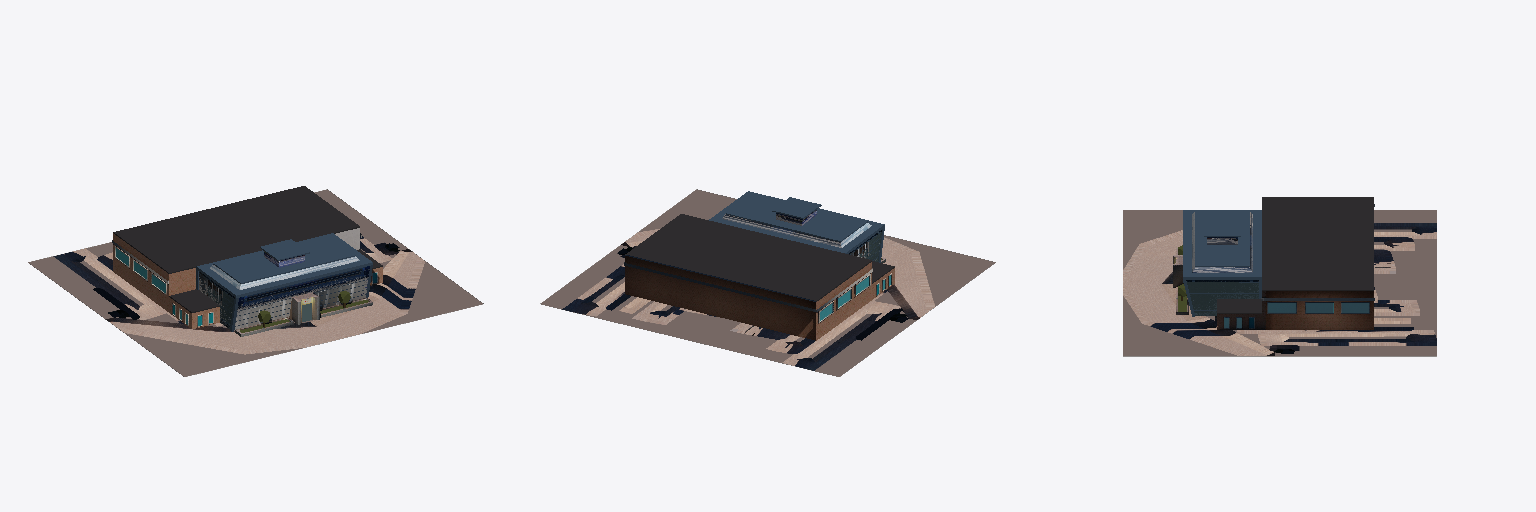
The picture shows the model from 3 angles: view 1: azimuth 30°, elevation 25°; view 2: azimuth 150°, elevation 25°; view 3: azimuth 270°, elevation 25°; orthographic projection.
Parts seen in each view (by area): view 1: Mesh121 G_3DGeom_18 Assembly_5 SimLab_skp Assembly_2 Model, Mesh99 G_3DGeom_11 Assembly_5 SimLab_skp Assembly_2 Model, Mesh30 G_3DGeom_3 Assembly_5 SimLab_skp Assembly_2 Model, Mesh29 G_3DGeom_3 Assembly_5 SimLab_skp Assembly_2 Model, Mesh26 G_3DGeom_2 Assembly_5 SimLab_skp Assembly_2 Model, Mesh39 G_3DGeom_4 Assembly_5 SimLab_skp Assembly_2 Model, Mesh100 G_3DGeom_11 Assembly_5 SimLab_skp Assembly_2 Model, Mesh101 G_3DGeom_11 Assembly_5 SimLab_skp Assembly_2 Model, Mesh31 G_3DGeom_3 Assembly_5 SimLab_skp Assembly_2 Model, Mesh25 G_3DGeom_2 Assembly_5 SimLab_skp Assembly_2 Model, Mesh113 G_3DGeom_15 Assembly_5 SimLab_skp Assembly_2 Model, Mesh48 G_3DGeom_4 Assembly_5 SimLab_skp Assembly_2 Model (+1 smaller); view 2: Mesh121 G_3DGeom_18 Assembly_5 SimLab_skp Assembly_2 Model, Mesh99 G_3DGeom_11 Assembly_5 SimLab_skp Assembly_2 Model, Mesh28 G_3DGeom_2 Assembly_5 SimLab_skp Assembly_2 Model, Mesh30 G_3DGeom_3 Assembly_5 SimLab_skp Assembly_2 Model, Mesh26 G_3DGeom_2 Assembly_5 SimLab_skp Assembly_2 Model, Mesh29 G_3DGeom_3 Assembly_5 SimLab_skp Assembly_2 Model, Mesh39 G_3DGeom_4 Assembly_5 SimLab_skp Assembly_2 Model, Mesh100 G_3DGeom_11 Assembly_5 SimLab_skp Assembly_2 Model, Mesh72 G_3DGeom_6 Assembly_5 SimLab_skp Assembly_2 Model, Mesh31 G_3DGeom_3 Assembly_5 SimLab_skp Assembly_2 Model; view 3: Mesh121 G_3DGeom_18 Assembly_5 SimLab_skp Assembly_2 Model, Mesh99 G_3DGeom_11 Assembly_5 SimLab_skp Assembly_2 Model, Mesh27 G_3DGeom_2 Assembly_5 SimLab_skp Assembly_2 Model, Mesh30 G_3DGeom_3 Assembly_5 SimLab_skp Assembly_2 Model, Mesh29 G_3DGeom_3 Assembly_5 SimLab_skp Assembly_2 Model, Mesh100 G_3DGeom_11 Assembly_5 SimLab_skp Assembly_2 Model, Mesh39 G_3DGeom_4 Assembly_5 SimLab_skp Assembly_2 Model, Mesh98 G_3DGeom_11 Assembly_5 SimLab_skp Assembly_2 Model, Mesh31 G_3DGeom_3 Assembly_5 SimLab_skp Assembly_2 Model.
Boxes of the visible parts, box(x1,y1,x2,y2) form: Mesh121 G_3DGeom_18 Assembly_5 SimLab_skp Assembly_2 Model: box(28, 190, 482, 376); Mesh99 G_3DGeom_11 Assembly_5 SimLab_skp Assembly_2 Model: box(114, 186, 359, 265); Mesh30 G_3DGeom_3 Assembly_5 SimLab_skp Assembly_2 Model: box(214, 235, 355, 283); Mesh29 G_3DGeom_3 Assembly_5 SimLab_skp Assembly_2 Model: box(196, 233, 372, 331); Mesh26 G_3DGeom_2 Assembly_5 SimLab_skp Assembly_2 Model: box(113, 233, 219, 328); Mesh39 G_3DGeom_4 Assembly_5 SimLab_skp Assembly_2 Model: box(210, 256, 359, 289); Mesh100 G_3DGeom_11 Assembly_5 SimLab_skp Assembly_2 Model: box(113, 232, 195, 273); Mesh101 G_3DGeom_11 Assembly_5 SimLab_skp Assembly_2 Model: box(169, 289, 219, 312); Mesh31 G_3DGeom_3 Assembly_5 SimLab_skp Assembly_2 Model: box(260, 239, 309, 260); Mesh25 G_3DGeom_2 Assembly_5 SimLab_skp Assembly_2 Model: box(168, 268, 195, 295); Mesh113 G_3DGeom_15 Assembly_5 SimLab_skp Assembly_2 Model: box(289, 292, 319, 324); Mesh48 G_3DGeom_4 Assembly_5 SimLab_skp Assembly_2 Model: box(238, 270, 369, 305); Mesh121 G_3DGeom_18 Assembly_5 SimLab_skp Assembly_2 Model: box(541, 190, 995, 376); Mesh99 G_3DGeom_11 Assembly_5 SimLab_skp Assembly_2 Model: box(625, 214, 844, 300); Mesh28 G_3DGeom_2 Assembly_5 SimLab_skp Assembly_2 Model: box(625, 256, 815, 340); Mesh30 G_3DGeom_3 Assembly_5 SimLab_skp Assembly_2 Model: box(726, 193, 867, 241); Mesh26 G_3DGeom_2 Assembly_5 SimLab_skp Assembly_2 Model: box(816, 263, 894, 340); Mesh29 G_3DGeom_3 Assembly_5 SimLab_skp Assembly_2 Model: box(709, 191, 884, 262); Mesh39 G_3DGeom_4 Assembly_5 SimLab_skp Assembly_2 Model: box(722, 214, 871, 247); Mesh100 G_3DGeom_11 Assembly_5 SimLab_skp Assembly_2 Model: box(816, 254, 871, 301); Mesh72 G_3DGeom_6 Assembly_5 SimLab_skp Assembly_2 Model: box(624, 262, 872, 311); Mesh31 G_3DGeom_3 Assembly_5 SimLab_skp Assembly_2 Model: box(772, 197, 821, 218); Mesh121 G_3DGeom_18 Assembly_5 SimLab_skp Assembly_2 Model: box(1123, 210, 1436, 355); Mesh99 G_3DGeom_11 Assembly_5 SimLab_skp Assembly_2 Model: box(1262, 197, 1373, 290); Mesh27 G_3DGeom_2 Assembly_5 SimLab_skp Assembly_2 Model: box(1217, 291, 1373, 329); Mesh30 G_3DGeom_3 Assembly_5 SimLab_skp Assembly_2 Model: box(1195, 210, 1249, 266); Mesh29 G_3DGeom_3 Assembly_5 SimLab_skp Assembly_2 Model: box(1183, 210, 1261, 316); Mesh100 G_3DGeom_11 Assembly_5 SimLab_skp Assembly_2 Model: box(1262, 197, 1367, 209); Mesh39 G_3DGeom_4 Assembly_5 SimLab_skp Assembly_2 Model: box(1192, 212, 1252, 272); Mesh98 G_3DGeom_11 Assembly_5 SimLab_skp Assembly_2 Model: box(1217, 299, 1261, 313); Mesh31 G_3DGeom_3 Assembly_5 SimLab_skp Assembly_2 Model: box(1204, 221, 1240, 236).
Size of the model in its own units: 55.15 by 9.65 by 50.
26 materials, 20 textured.